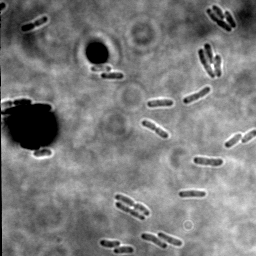Dividing: (114, 194, 151, 217), (205, 8, 234, 34), (115, 201, 146, 222), (182, 86, 213, 106), (141, 119, 170, 140), (197, 48, 215, 80), (19, 16, 50, 34), (193, 156, 224, 167)
Rod: (140, 232, 168, 249), (157, 231, 184, 248), (177, 189, 208, 199), (225, 132, 243, 149), (203, 42, 216, 65), (147, 98, 174, 109), (224, 10, 239, 29), (212, 4, 227, 21), (241, 127, 255, 145), (213, 54, 223, 78), (100, 72, 126, 81), (98, 239, 121, 249), (90, 64, 113, 74), (33, 149, 52, 160), (112, 246, 135, 254)
